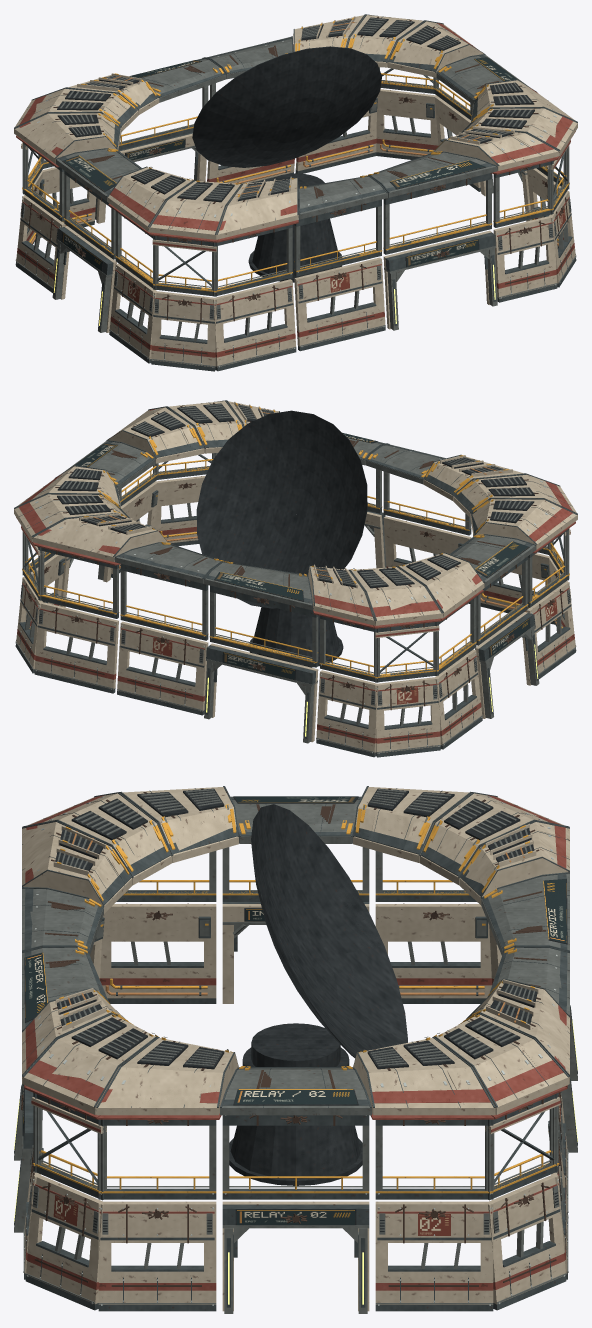
File: damage-library.glb
3 views of the same model, one above another, from view 1: azimuth 30°, elevation 25°; view 2: azimuth 150°, elevation 25°; view 3: azimuth 270°, elevation 25° (orthographic). The views are drawn at different scales.
Parts seen in each view (by area): view 1: Reflector shell solid, Warehouse_S01_Radar_Wall_S2_Light, Warehouse_S01_Radar_Wall_S1_Light, Drive pedestal solid, Warehouse_S02_Radar_Roof_S1_Light, Warehouse_S01_Radar_Wall_SW1_Light, Warehouse_S01_Radar_Wall_S2_Heavy, Warehouse_S01_Radar_Wall_NE1_Light, Warehouse_S02_Radar_Roof_W1_Light, Warehouse_S01_Radar_Wall_S4_Light, Warehouse_S02_Radar_Roof_S3_Light, Warehouse_S02_Radar_Roof_SW1_Light (+75 smaller); view 2: Reflector shell solid, Warehouse_S01_Radar_Wall_N2_Light, Warehouse_S01_Radar_Wall_N1_Light, Warehouse_S01_Radar_Wall_NW1_Light, Warehouse_S01_Radar_Wall_N4_Light, Warehouse_S02_Radar_Roof_N1_Light, Warehouse_S02_Radar_Roof_NW1_Light, Drive pedestal solid, Warehouse_S01_Radar_Wall_N2_Heavy, Warehouse_S02_Radar_Roof_W3_Light, Warehouse_S02_Radar_Roof_W1_Light, Warehouse_S02_Radar_Roof_N3_Light (+71 smaller); view 3: Reflector shell solid, Drive pedestal solid, Warehouse_S01_Radar_Wall_E1_Light, Warehouse_S01_Radar_Wall_E3_Light, Warehouse_S01_Radar_Wall_W3_Light, Warehouse_S02_Radar_Roof_E1_Light, Warehouse_S01_Radar_Wall_W1_Light, Warehouse_S02_Radar_Roof_E3_Light, Warehouse_S02_Radar_Roof_SE1_Light, Warehouse_S01_Radar_Wall_NE1_Light, Warehouse_S01_Radar_Wall_E1_Heavy, Warehouse_S01_Radar_Wall_E3_Heavy (+58 smaller).
Boxes of the visible parts, x1=… form: Reflector shell solid: x1=192, y1=46, x2=381, y2=167; Warehouse_S01_Radar_Wall_S2_Light: x1=296, y1=257, x2=385, y2=350; Warehouse_S01_Radar_Wall_S1_Light: x1=214, y1=279, x2=296, y2=369; Drive pedestal solid: x1=248, y1=173, x2=342, y2=282; Warehouse_S02_Radar_Roof_S1_Light: x1=216, y1=176, x2=298, y2=242; Warehouse_S01_Radar_Wall_SW1_Light: x1=151, y1=292, x2=216, y2=371; Warehouse_S01_Radar_Wall_S2_Heavy: x1=294, y1=257, x2=385, y2=351; Warehouse_S01_Radar_Wall_NE1_Light: x1=376, y1=89, x2=437, y2=159; Warehouse_S02_Radar_Roof_W1_Light: x1=14, y1=113, x2=121, y2=165; Warehouse_S01_Radar_Wall_S4_Light: x1=495, y1=216, x2=557, y2=302; Warehouse_S02_Radar_Roof_S3_Light: x1=368, y1=152, x2=497, y2=197; Warehouse_S02_Radar_Roof_SW1_Light: x1=149, y1=179, x2=240, y2=242; Reflector shell solid: x1=196, y1=410, x2=367, y2=608; Warehouse_S01_Radar_Wall_N2_Light: x1=117, y1=622, x2=205, y2=714; Warehouse_S01_Radar_Wall_N1_Light: x1=34, y1=602, x2=116, y2=692; Warehouse_S01_Radar_Wall_NW1_Light: x1=375, y1=677, x2=440, y2=756; Warehouse_S01_Radar_Wall_N4_Light: x1=316, y1=671, x2=378, y2=756; Warehouse_S02_Radar_Roof_N1_Light: x1=34, y1=513, x2=155, y2=564; Warehouse_S02_Radar_Roof_NW1_Light: x1=352, y1=565, x2=442, y2=628; Drive pedestal solid: x1=249, y1=607, x2=343, y2=667; Warehouse_S01_Radar_Wall_N2_Heavy: x1=117, y1=621, x2=208, y2=715; Warehouse_S02_Radar_Roof_W3_Light: x1=470, y1=499, x2=577, y2=552; Warehouse_S02_Radar_Roof_W1_Light: x1=401, y1=553, x2=484, y2=620; Warehouse_S02_Radar_Roof_N3_Light: x1=204, y1=562, x2=313, y2=610; Reflector shell solid: x1=251, y1=804, x2=407, y2=1058; Drive pedestal solid: x1=229, y1=1023, x2=362, y2=1185; Warehouse_S01_Radar_Wall_E1_Light: x1=98, y1=1201, x2=216, y2=1311; Warehouse_S01_Radar_Wall_E3_Light: x1=375, y1=1201, x2=493, y2=1311; Warehouse_S01_Radar_Wall_W3_Light: x1=100, y1=904, x2=216, y2=1003; Warehouse_S02_Radar_Roof_E1_Light: x1=96, y1=1036, x2=232, y2=1119; Warehouse_S01_Radar_Wall_W1_Light: x1=375, y1=904, x2=491, y2=1003; Warehouse_S02_Radar_Roof_E3_Light: x1=359, y1=1036, x2=495, y2=1119; Warehouse_S02_Radar_Roof_SE1_Light: x1=22, y1=1013, x2=155, y2=1116; Warehouse_S01_Radar_Wall_NE1_Light: x1=486, y1=1174, x2=566, y2=1309; Warehouse_S01_Radar_Wall_E1_Heavy: x1=98, y1=1201, x2=216, y2=1311; Warehouse_S01_Radar_Wall_E3_Heavy: x1=375, y1=1201, x2=493, y2=1311.
Size of the model in its own units: 63.85 by 31.45 by 47.85.
16 materials, 14 textured.
